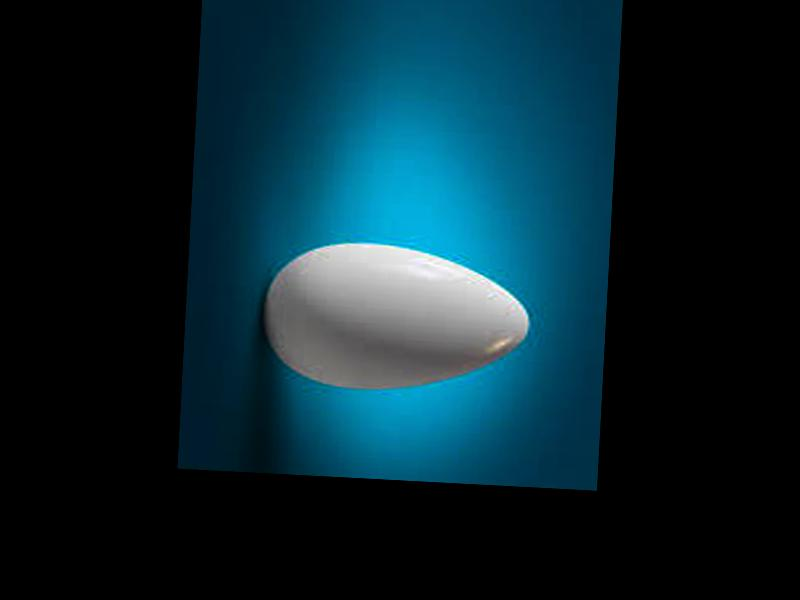Eggs: (259, 237, 531, 399)
